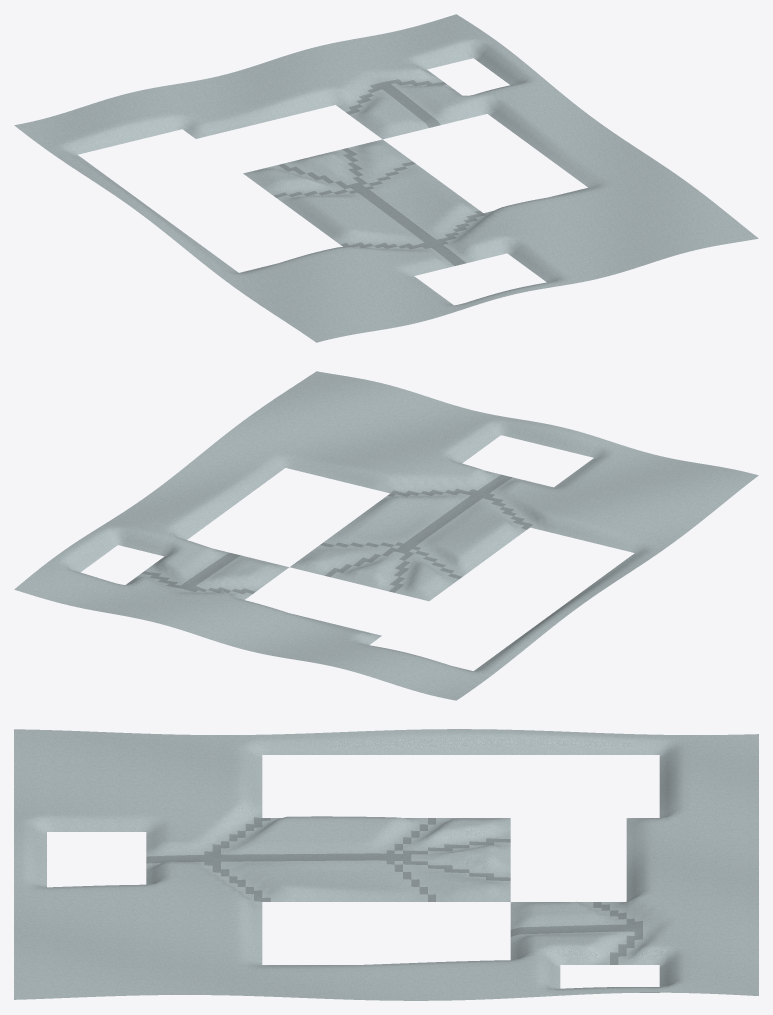
Rendered from level_site_wld_08_terrain.glb.
3 renders of one model, top to bottom at view 1: azimuth 30°, elevation 25°; view 2: azimuth 150°, elevation 25°; view 3: azimuth 270°, elevation 25°, orthographic. The views are drawn at different scales.
Visible parts, largest first — view 1: level_site_wld_08_terrain; view 2: level_site_wld_08_terrain; view 3: level_site_wld_08_terrain.
Part boxes in pixels (left/top/right/bottom): level_site_wld_08_terrain: left=14, top=14, right=758, bottom=342; level_site_wld_08_terrain: left=14, top=371, right=758, bottom=700; level_site_wld_08_terrain: left=14, top=729, right=758, bottom=1000.
Size of the model in its own units: 76 by 1.93 by 90.
Materials: 2 (2 with a texture image).
